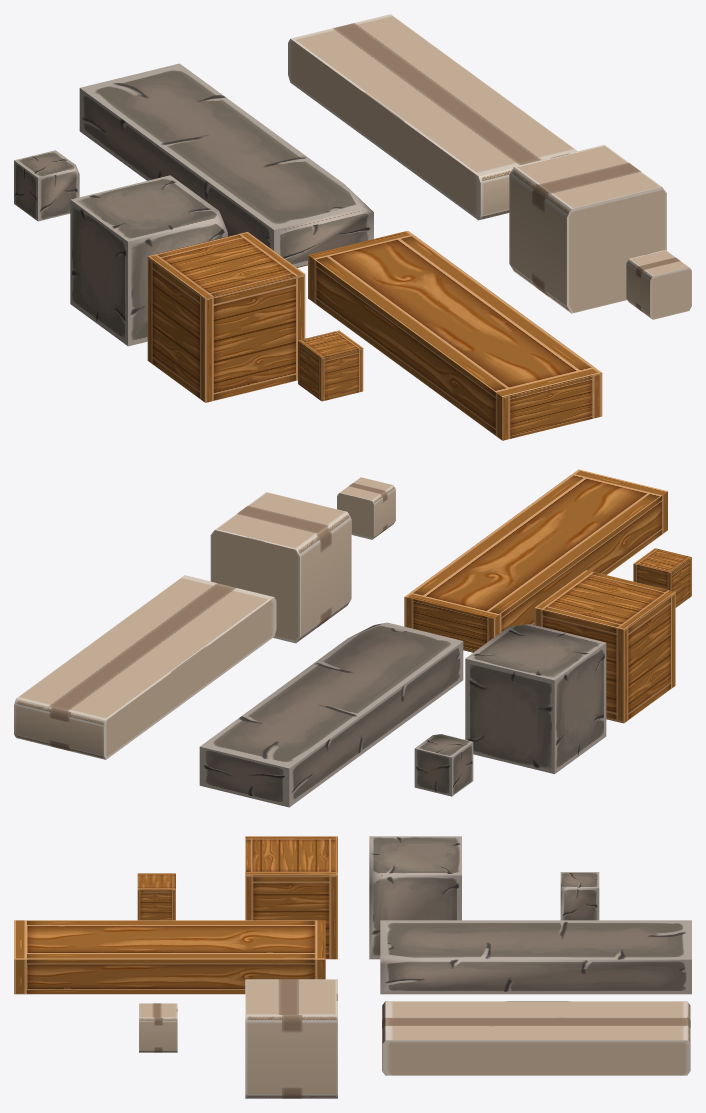
3 views of the same model, one above another, from view 1: azimuth 30°, elevation 25°; view 2: azimuth 150°, elevation 25°; view 3: azimuth 270°, elevation 25° (orthographic). The views are drawn at different scales.
Visible parts, largest first — view 1: wood_6, rock_3, wood_8, wood_4, wood_7, rock_1, wood_5, rock_2, wood_9; view 2: rock_3, wood_8, wood_6, rock_1, wood_7, wood_4, rock_2, wood_9, wood_5; view 3: rock_3, wood_8, wood_6, wood_7, wood_4, rock_1, rock_2, wood_9, wood_5.
Part boxes in pixels (left/top/right/bottom): wood_6: left=308, top=230, right=602, bottom=440; rock_3: left=79, top=63, right=373, bottom=267; wood_8: left=288, top=14, right=577, bottom=220; wood_4: left=147, top=232, right=305, bottom=402; wood_7: left=509, top=144, right=666, bottom=313; rock_1: left=70, top=175, right=227, bottom=346; wood_5: left=298, top=330, right=363, bottom=401; rock_2: left=14, top=150, right=79, bottom=221; wood_9: left=626, top=250, right=691, bottom=319; rock_3: left=199, top=622, right=463, bottom=807; wood_8: left=14, top=575, right=276, bottom=759; wood_6: left=404, top=469, right=667, bottom=652; rock_1: left=465, top=624, right=606, bottom=774; wood_7: left=210, top=492, right=351, bottom=643; wood_4: left=534, top=570, right=675, bottom=723; rock_2: left=414, top=734, right=473, bottom=796; wood_9: left=337, top=477, right=395, bottom=539; wood_5: left=633, top=548, right=691, bottom=607; rock_3: left=380, top=920, right=691, bottom=994; wood_8: left=382, top=1001, right=690, bottom=1075; wood_6: left=14, top=920, right=325, bottom=994; wood_7: left=245, top=979, right=337, bottom=1098; wood_4: left=245, top=836, right=337, bottom=959; rock_1: left=369, top=836, right=461, bottom=959; rock_2: left=560, top=872, right=599, bottom=920; wood_9: left=139, top=1003, right=177, bottom=1052; wood_5: left=137, top=873, right=175, bottom=920.
Size of the model in its own units: 36.55 by 7.92 by 57.99.
